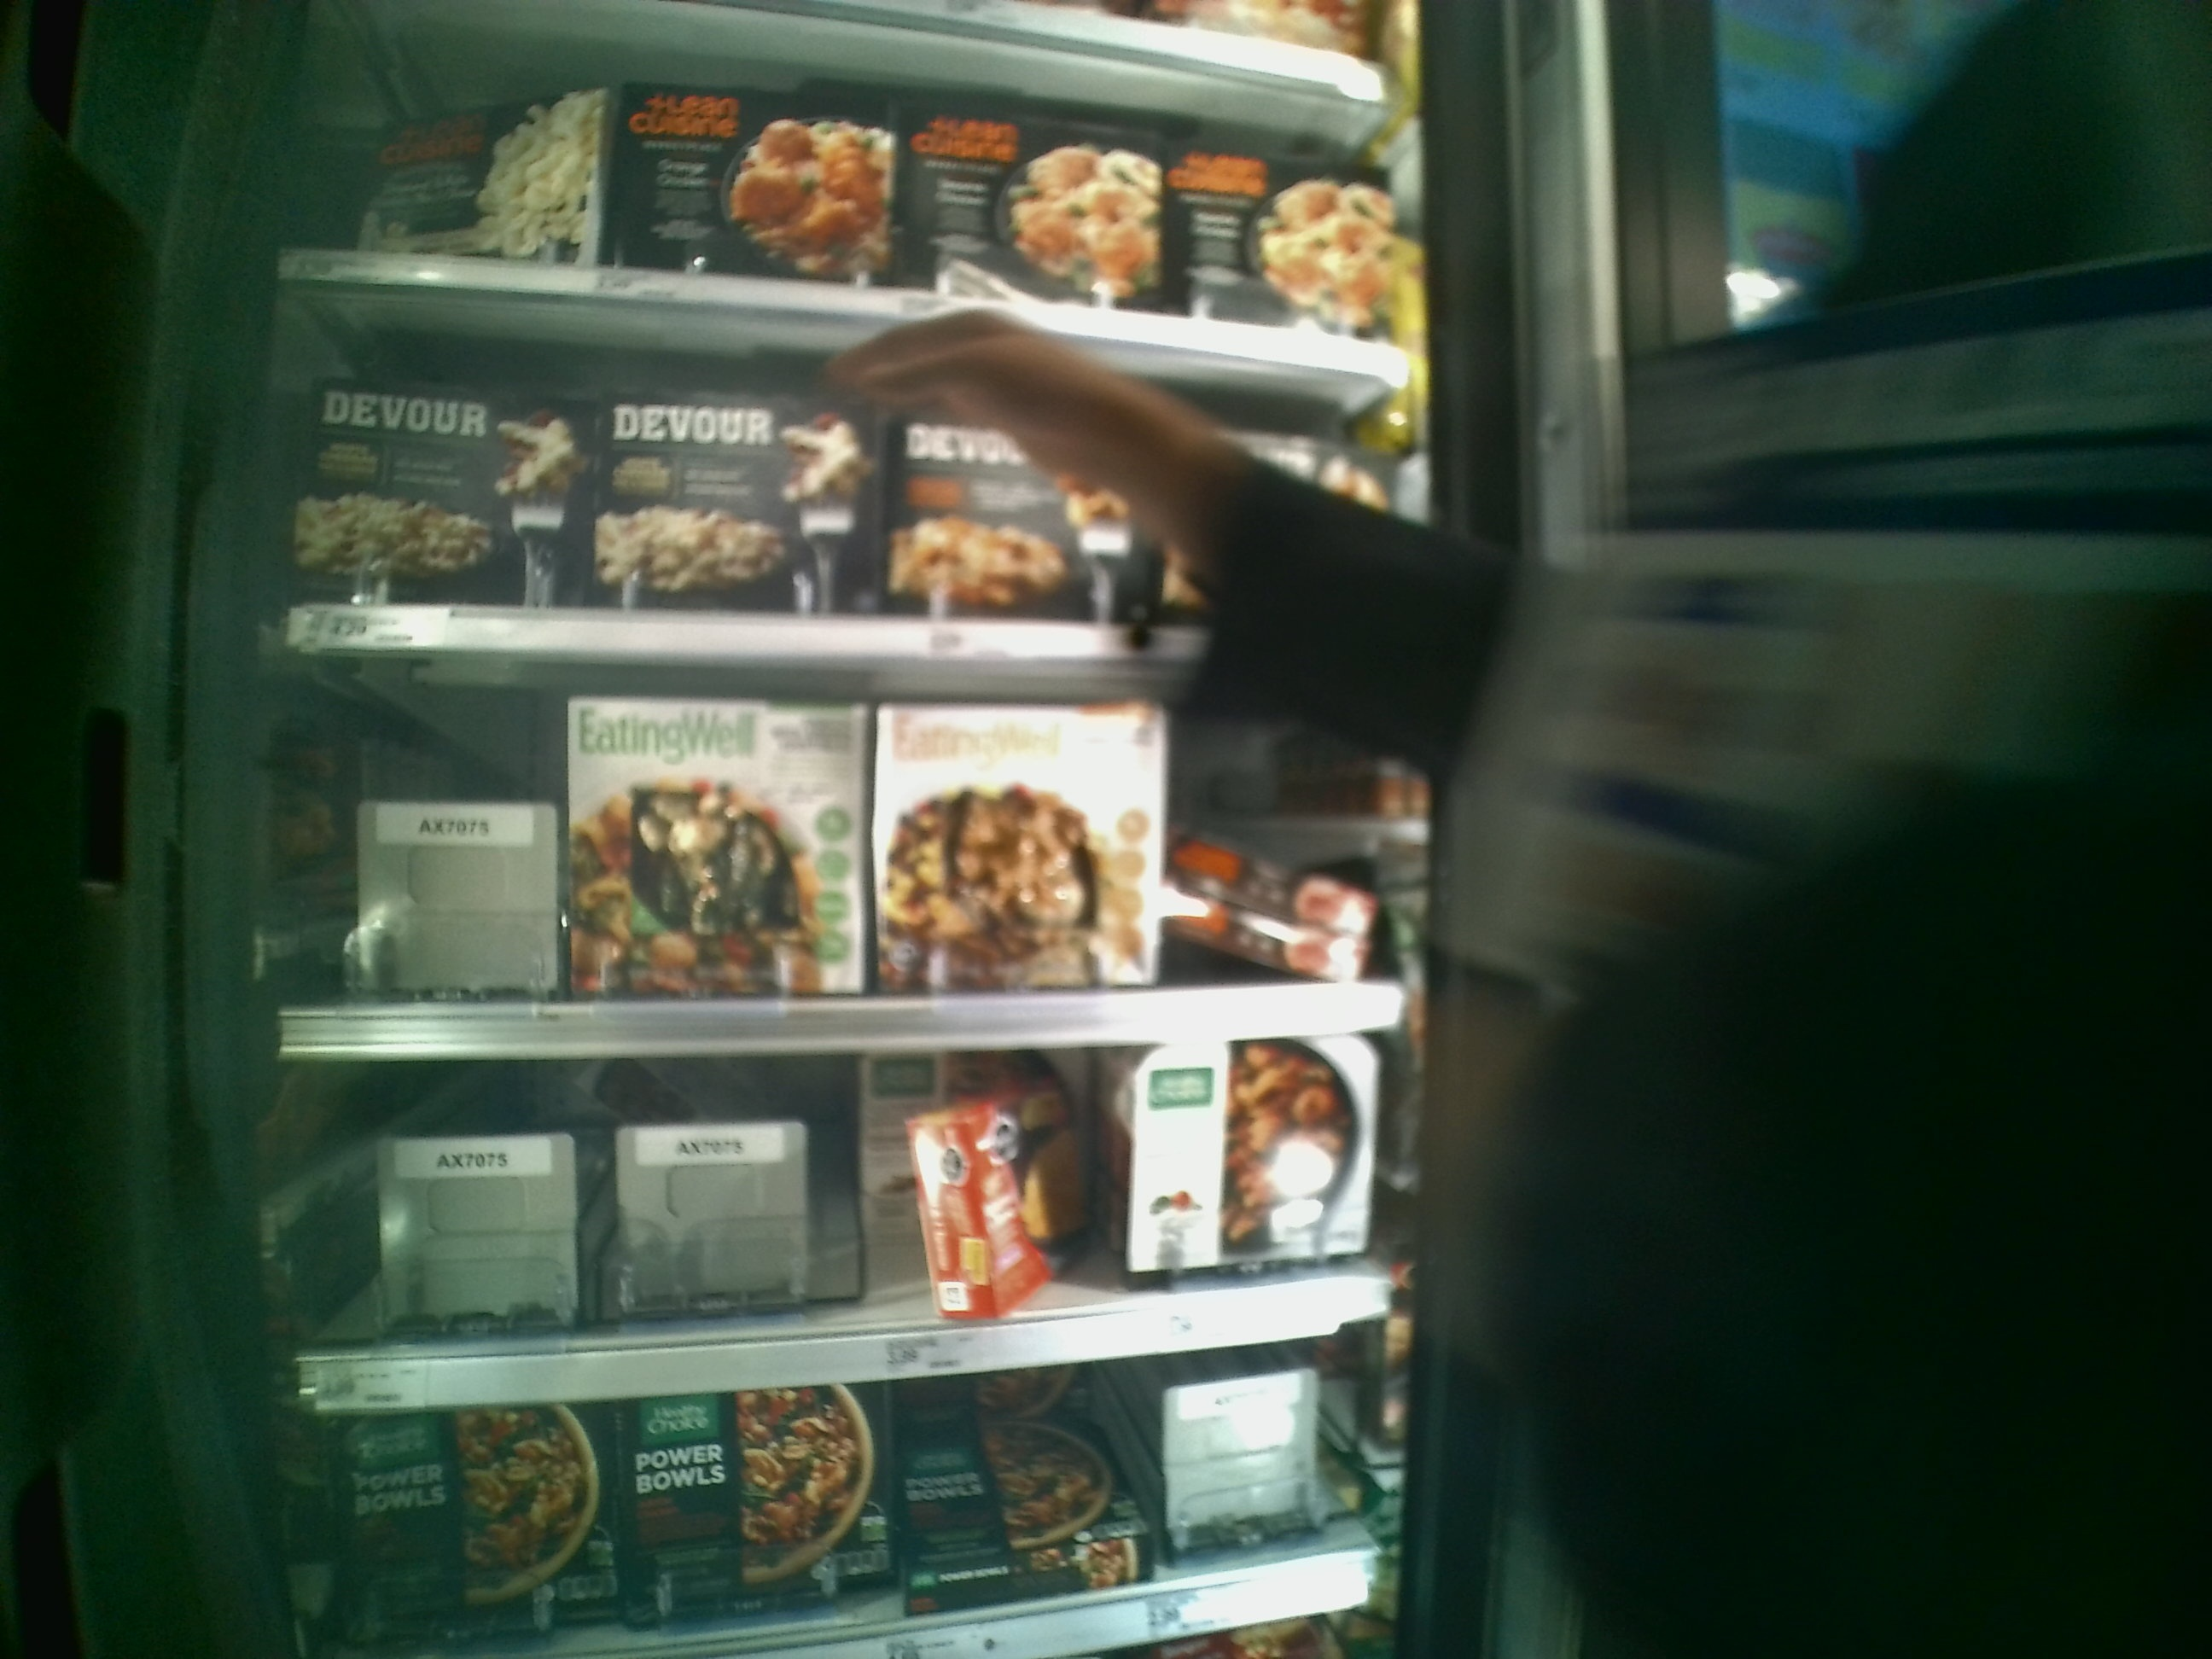shelf: (268, 1014, 1425, 1406)
